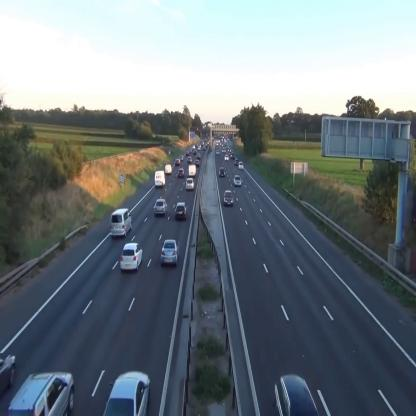car: (7, 370, 74, 416), (102, 371, 150, 416), (121, 242, 143, 272), (160, 239, 180, 268), (154, 198, 167, 216), (176, 203, 188, 221), (223, 190, 234, 205), (186, 178, 194, 190), (233, 174, 241, 186), (165, 164, 172, 175), (219, 166, 226, 177), (178, 168, 184, 177), (238, 160, 244, 168), (175, 158, 180, 166), (194, 160, 199, 166), (180, 154, 184, 160), (224, 155, 228, 161), (235, 158, 239, 164), (188, 157, 192, 162), (216, 149, 220, 154), (222, 147, 226, 152)
lorry: (109, 208, 132, 237), (154, 169, 166, 188), (188, 165, 197, 177)
